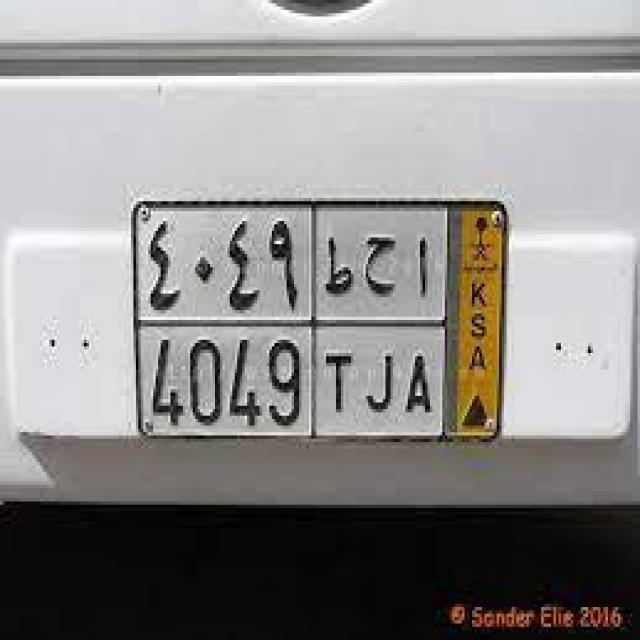license_plate: (118, 194, 530, 457)
